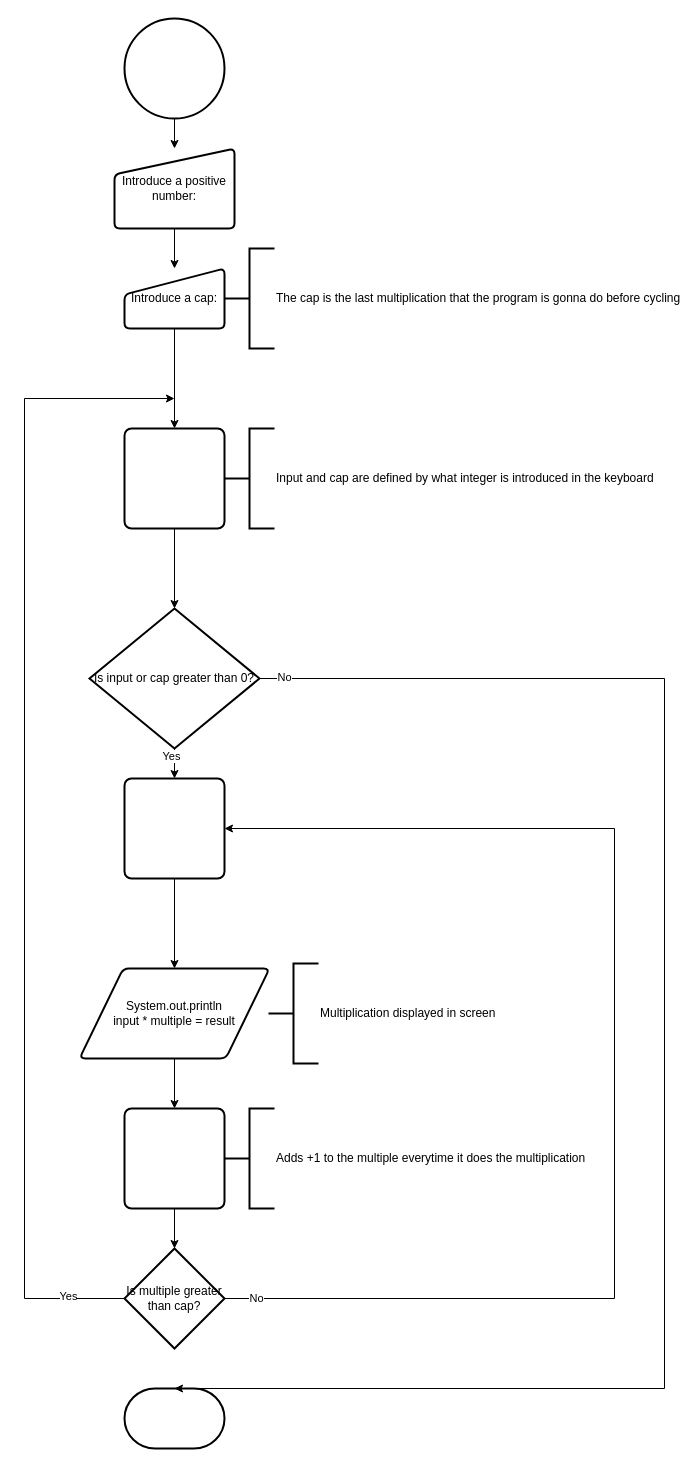
Some shapes in this 698 by 1466 pixel diagram are drawn without their labels. Here are the shapes that lost their labels. From the top down, the centre of each, then its label:
At point (174, 68): "Start".
At point (174, 478): "multiplo = 1 input = keyboard.nextInt".
At point (174, 828): "result = input * multiple".
At point (174, 1158): "++multiple".
At point (174, 1418): "END".
